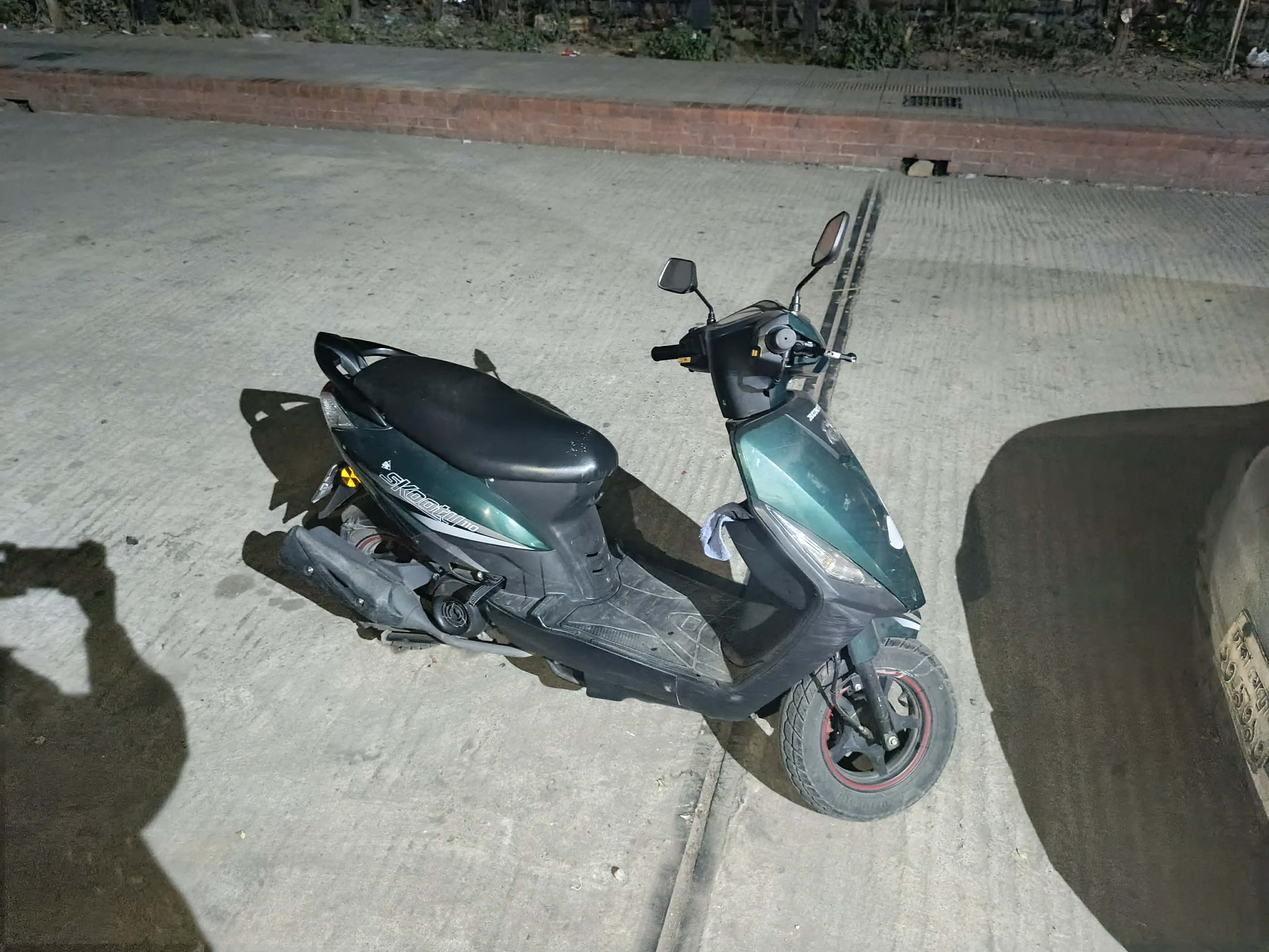Bikes: (222, 210, 1032, 864)
